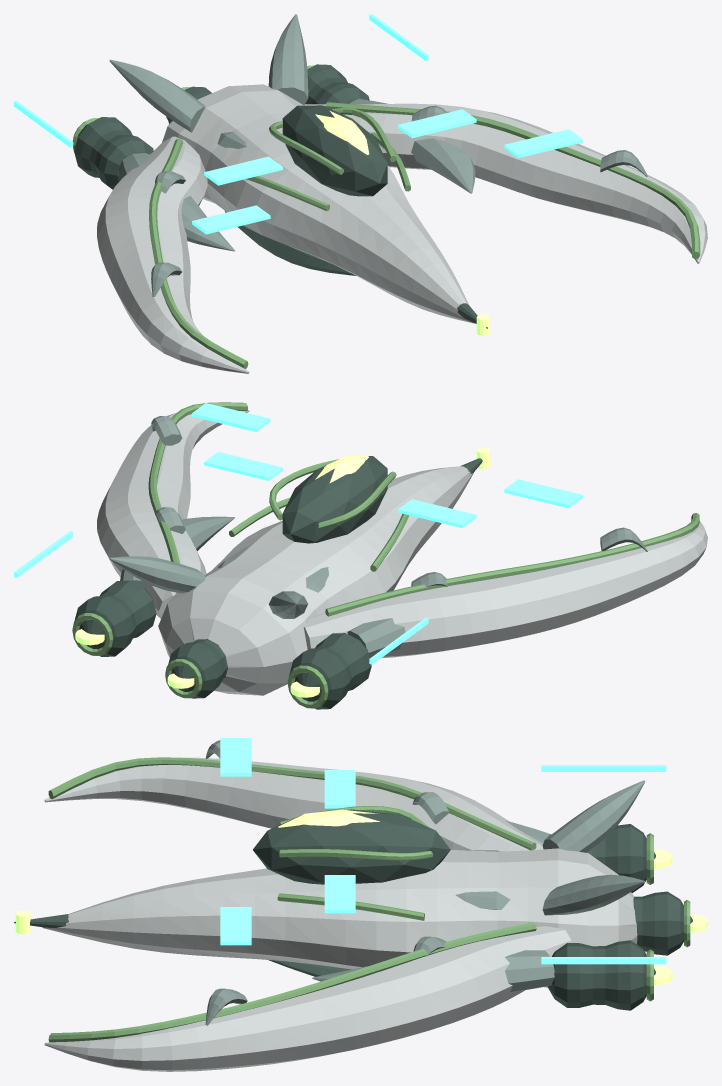
Rendered from SL_PHANTOM_HQ.glb.
3 renders of one model, top to bottom at view 1: azimuth 30°, elevation 25°; view 2: azimuth 150°, elevation 25°; view 3: azimuth 270°, elevation 25°, orthographic. The views are drawn at different scales.
Parts seen in each view (by area): view 1: armor, dark, plate, accent, V59 trim baked, energy; view 2: armor, dark, accent, plate, V59 trim baked, energy; view 3: armor, dark, accent, plate, V59 trim baked, energy.
Part boxes in pixels (left/top/right/bottom): armor: left=97, top=84, right=707, bottom=373; dark: left=74, top=64, right=487, bottom=328; plate: left=109, top=14, right=647, bottom=296; accent: left=72, top=65, right=700, bottom=369; V59 trim baked: left=14, top=14, right=582, bottom=234; energy: left=315, top=111, right=490, bottom=335; armor: left=97, top=409, right=707, bottom=695; dark: left=74, top=456, right=482, bottom=709; accent: left=72, top=402, right=699, bottom=708; plate: left=109, top=416, right=647, bottom=657; V59 trim baked: left=14, top=403, right=582, bottom=664; energy: left=75, top=447, right=490, bottom=697; armor: left=42, top=757, right=637, bottom=1071; dark: left=14, top=809, right=692, bottom=1010; accent: left=48, top=757, right=690, bottom=1042; plate: left=205, top=740, right=645, bottom=1025; V59 trim baked: left=220, top=738, right=666, bottom=964; energy: left=15, top=809, right=707, bottom=985.
Bounding box in the file's own units: 5.98 × 1.68 × 6.02.
